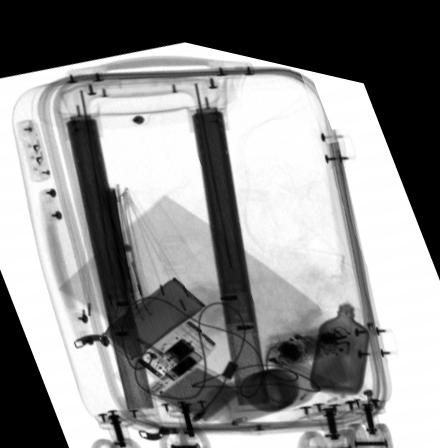Powerbank: (141, 346, 246, 413)
